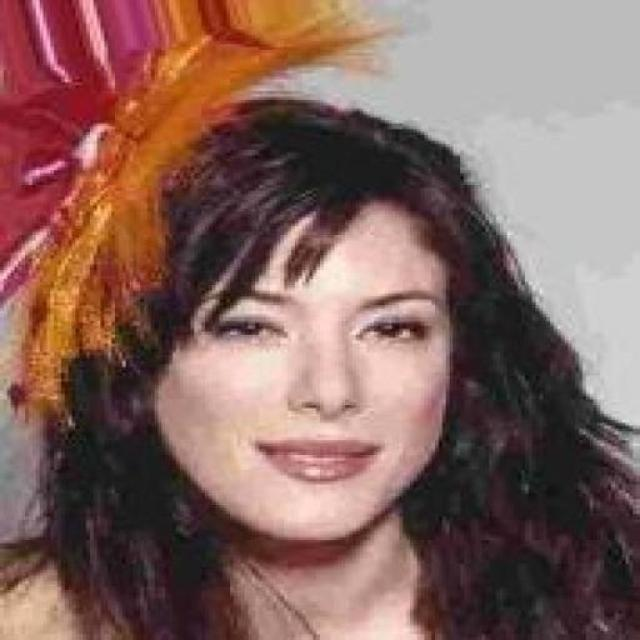bareface: (126, 125, 491, 522)
